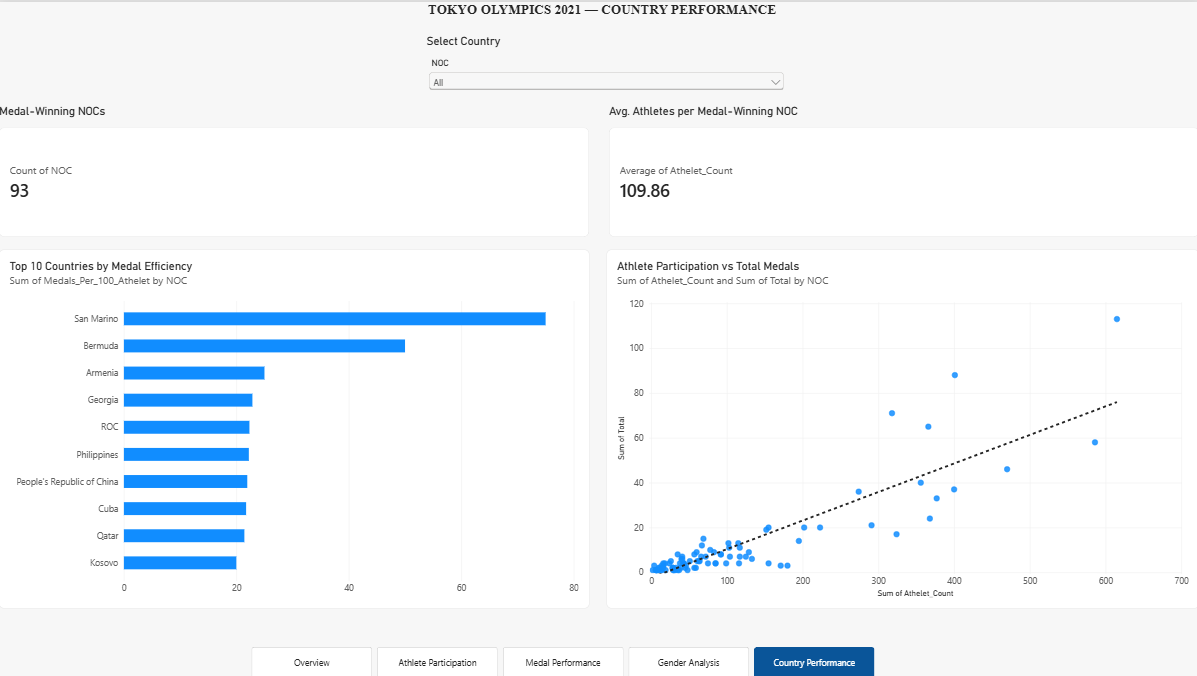

The dashboard page shown, as its layout file describes it:
{"tool":"powerbi","page":{"name":"Country Performance","canvas":[1920,1080],"ordinal":4},"visuals":[{"type":"textbox","box":[10.3,0,1910.1,51.5],"z":0},{"type":"cardVisual","title":"Medal-Winning NOCs","fields":{"Data":["Count(country_performance.NOC)"]},"box":[0,164.7,944.8,212],"z":1},{"type":"cardVisual","title":"Avg. Athletes per Medal-Winning NOC","fields":{"Data":["Avg(country_performance.Athelet_Count)"]},"box":[975.6,164.7,944.8,212],"z":2},{"type":"clusteredBarChart","title":"Top 10 Countries by Medal Efficiency","fields":{"Category":["country_performance.NOC"],"Y":["Sum(country_performance.Medals_Per_100_Athelet)"]},"box":[0,395.2,944.8,574.3],"z":3},{"type":"scatterChart","title":"Athlete Participation vs Total Medals","fields":{"Category":["country_performance.NOC"],"X":["Sum(country_performance.Athelet_Count)"],"Y":["Sum(country_performance.Total)"]},"box":[971.5,395.2,948.9,574.3],"z":4},{"type":"slicer","title":"Select Country","fields":{"Values":["country_performance.NOC"]},"box":[683.4,51.5,576.3,146.1],"z":5},{"type":"pageNavigator","box":[403.4,1031.2,1000,50],"z":6}]}

Visuals, with their boxes in screenshot pixels (x1, y1, x2, y2), scaled from the page's 1920x1080 canvas onto the 1197x676 screenshot:
textbox: rect(6, 0, 1196, 32)
"Medal-Winning NOCs" cardVisual: rect(0, 103, 589, 236)
"Avg. Athletes per Medal-Winning NOC" cardVisual: rect(608, 103, 1196, 236)
"Top 10 Countries by Medal Efficiency" clusteredBarChart: rect(0, 247, 589, 607)
"Athlete Participation vs Total Medals" scatterChart: rect(606, 247, 1196, 607)
"Select Country" slicer: rect(426, 32, 785, 124)
pageNavigator: rect(251, 645, 875, 675)
